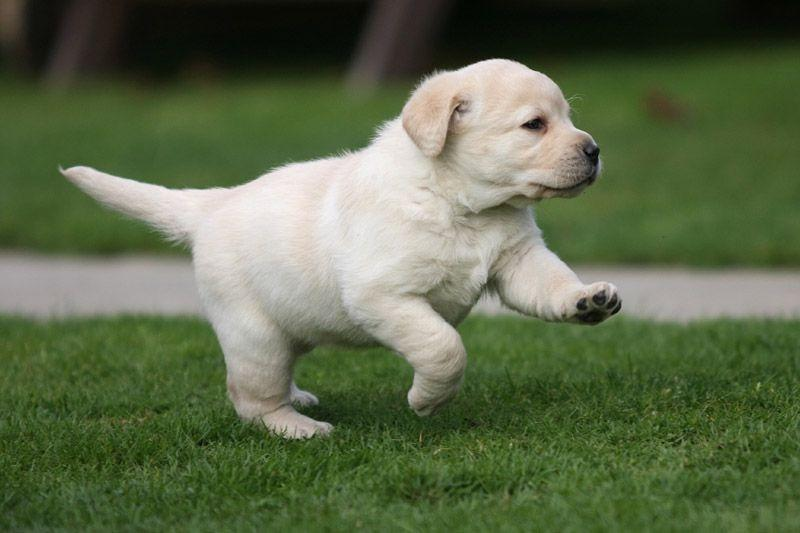puppy-dog: (56, 54, 625, 440)
